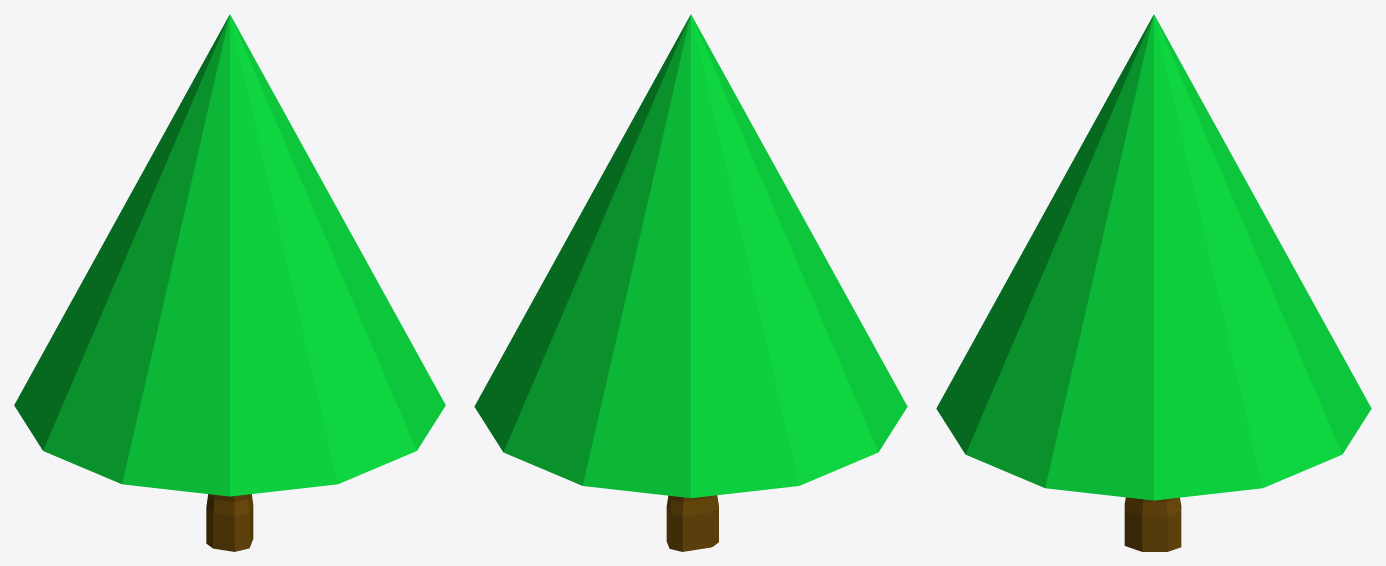
File: PineTree.glb
3 renders of one model, left to right at view 1: azimuth 30°, elevation 25°; view 2: azimuth 150°, elevation 25°; view 3: azimuth 270°, elevation 25°, orthographic.
Parts seen in each view (by area): view 1: PineTree -col; view 2: PineTree -col; view 3: PineTree -col.
Boxes of the visible parts, x1,y1,x2,y2 form: PineTree -col: (14,14,445,551); PineTree -col: (474,14,907,551); PineTree -col: (936,14,1371,551).
Bounding box in the file's own units: 2 × 2.68 × 2.
